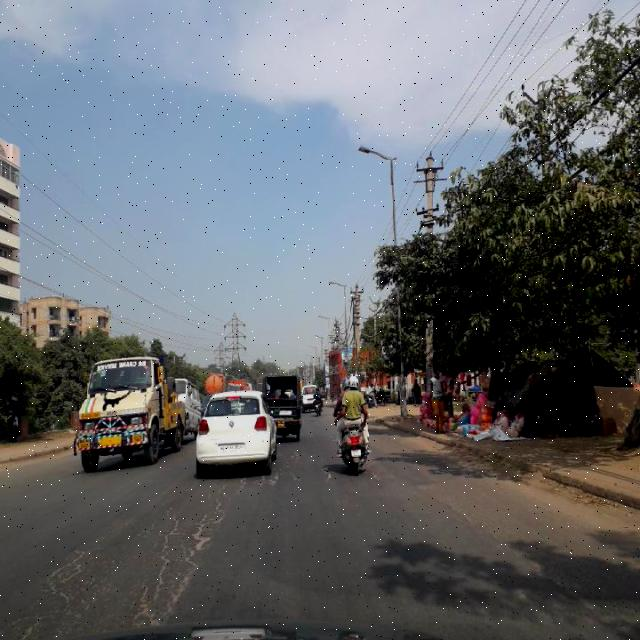D20: (122, 498, 225, 629)
